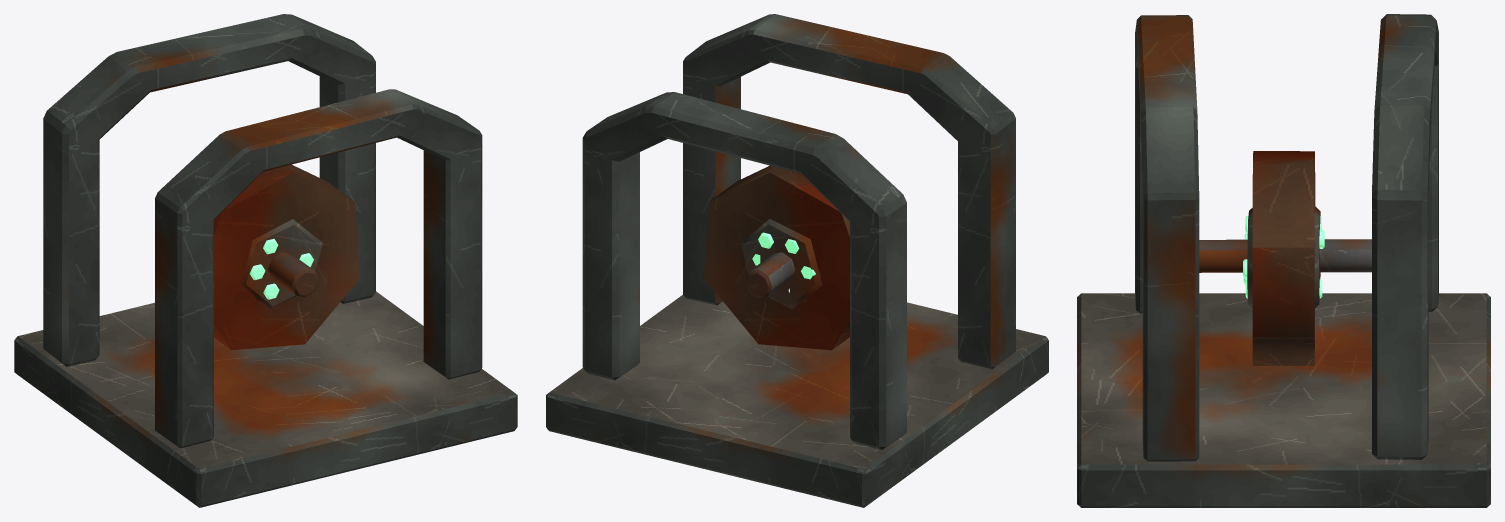
Rendered from R4X_MovementDurabilityBooster_LOD1.glb.
3 renders of one model, left to right at view 1: azimuth 30°, elevation 25°; view 2: azimuth 150°, elevation 25°; view 3: azimuth 270°, elevation 25°, orthographic. The views are drawn at different scales.
Parts seen in each view (by area): view 1: R4X_MovementDurabilityBooster_LOD1; view 2: R4X_MovementDurabilityBooster_LOD1; view 3: R4X_MovementDurabilityBooster_LOD1.
Boxes of the visible parts, x1,y1,x2,y2 form: R4X_MovementDurabilityBooster_LOD1: [14, 14, 517, 507]; R4X_MovementDurabilityBooster_LOD1: [546, 14, 1048, 507]; R4X_MovementDurabilityBooster_LOD1: [1077, 14, 1490, 507].
Size of the model in its own units: 0.52 by 0.5 by 0.52.
Materials: 5 (4 with a texture image).
